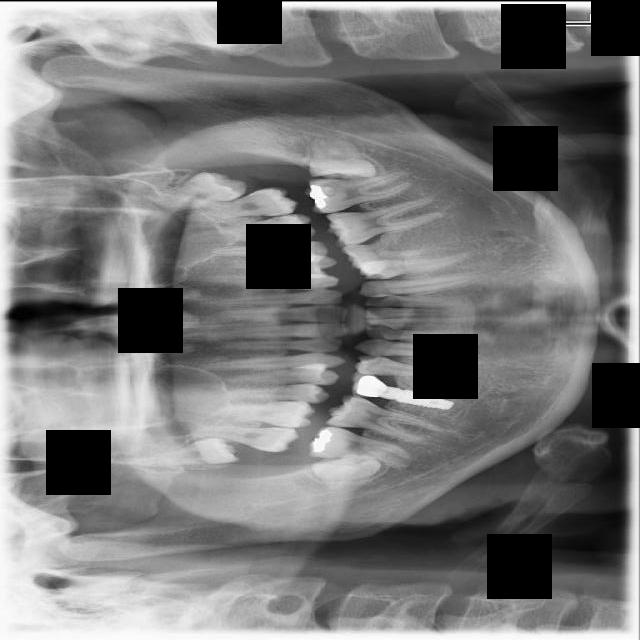3M ESPE Implant: (138, 435, 241, 467)
52: (300, 165, 357, 222), (306, 425, 356, 458)
73: (615, 14, 625, 20)
BioHorizons Implant: (180, 184, 298, 223)
BioLife Implant: (148, 162, 250, 218)
Biomet 3i Implant: (309, 136, 376, 181)
Blue Sky Bio Implant: (303, 168, 416, 215)
Caries: (184, 421, 299, 453)
Implant: (306, 423, 413, 468)
Keystone Dental Implant: (309, 435, 387, 504)
